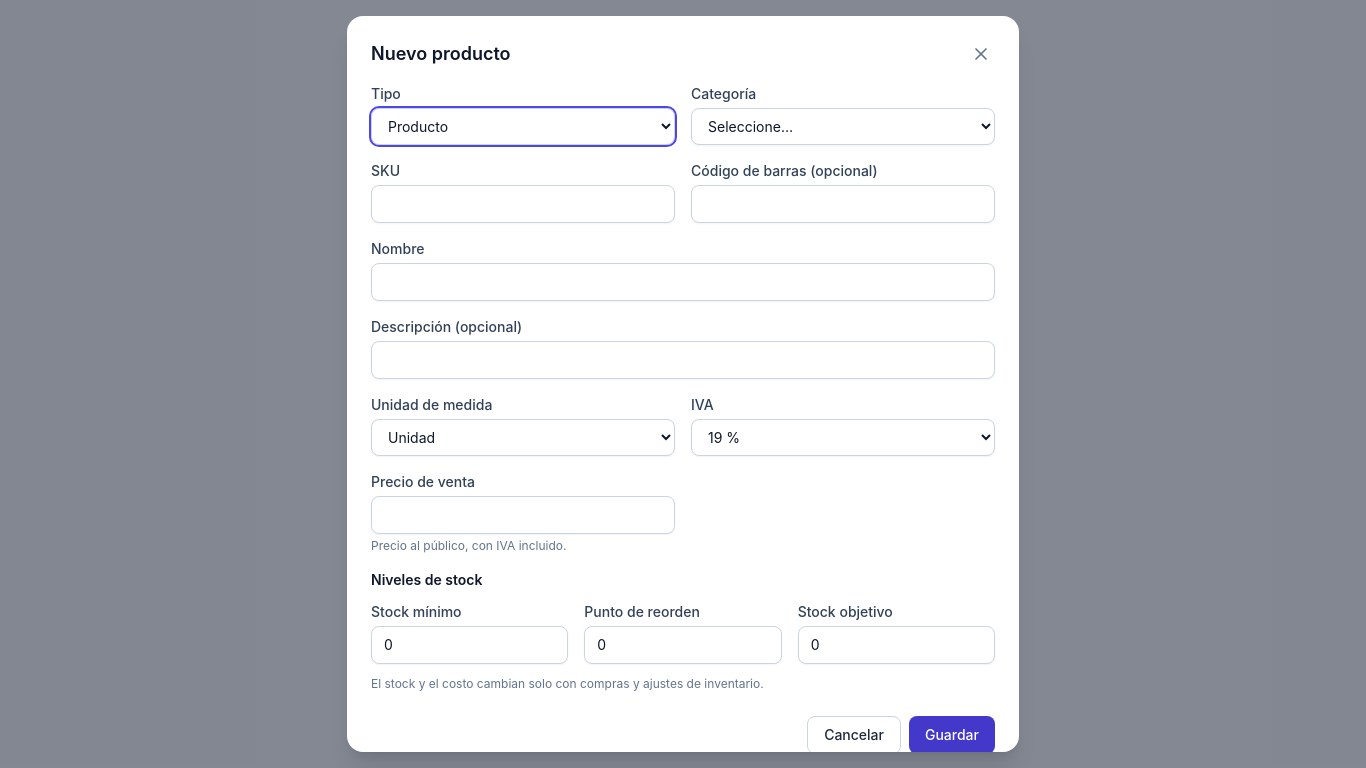
it: ProductFormModal › validates the order of stock levels
Select "Bebidas" in the dropdown labelled "Categoría" at (843, 126), box [691,108,995,145]
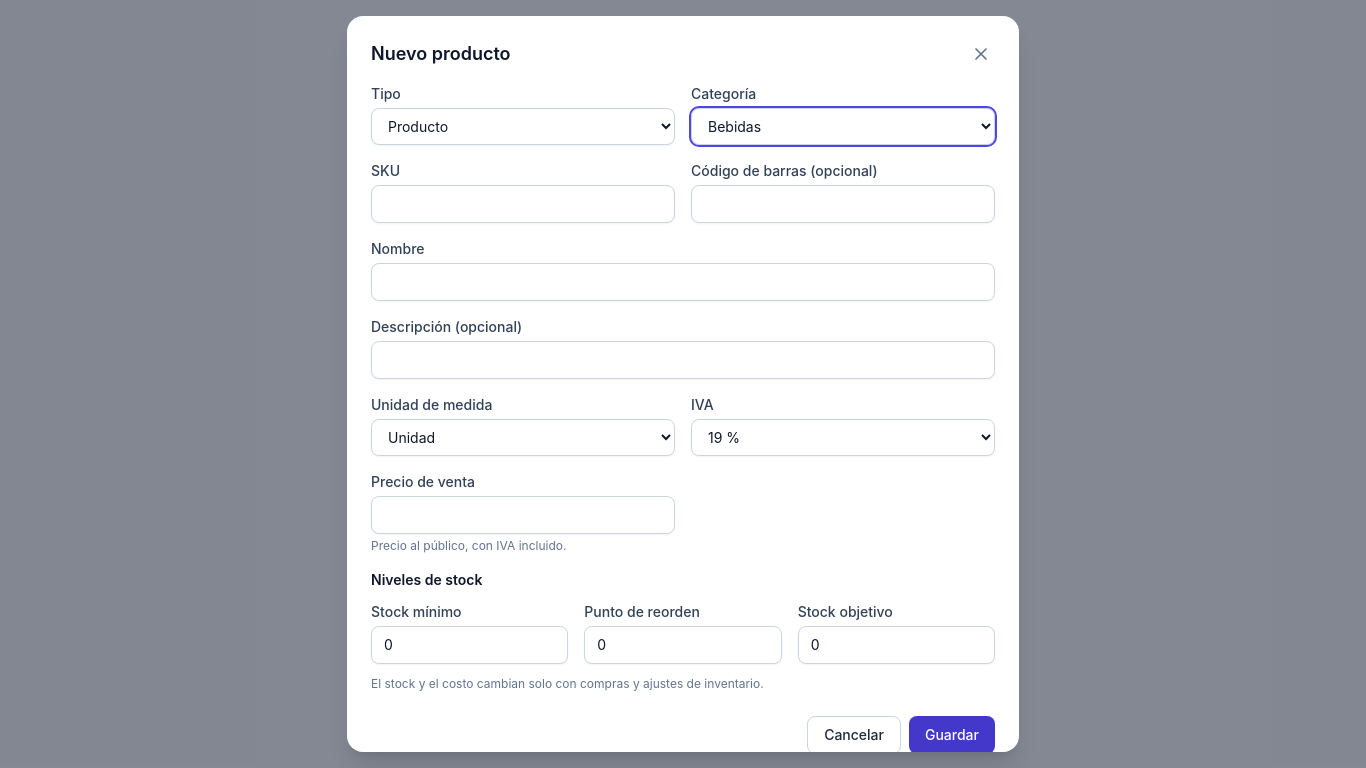
Type "beb-001" into the field labelled "SKU" at (523, 204), box [371,185,675,223]
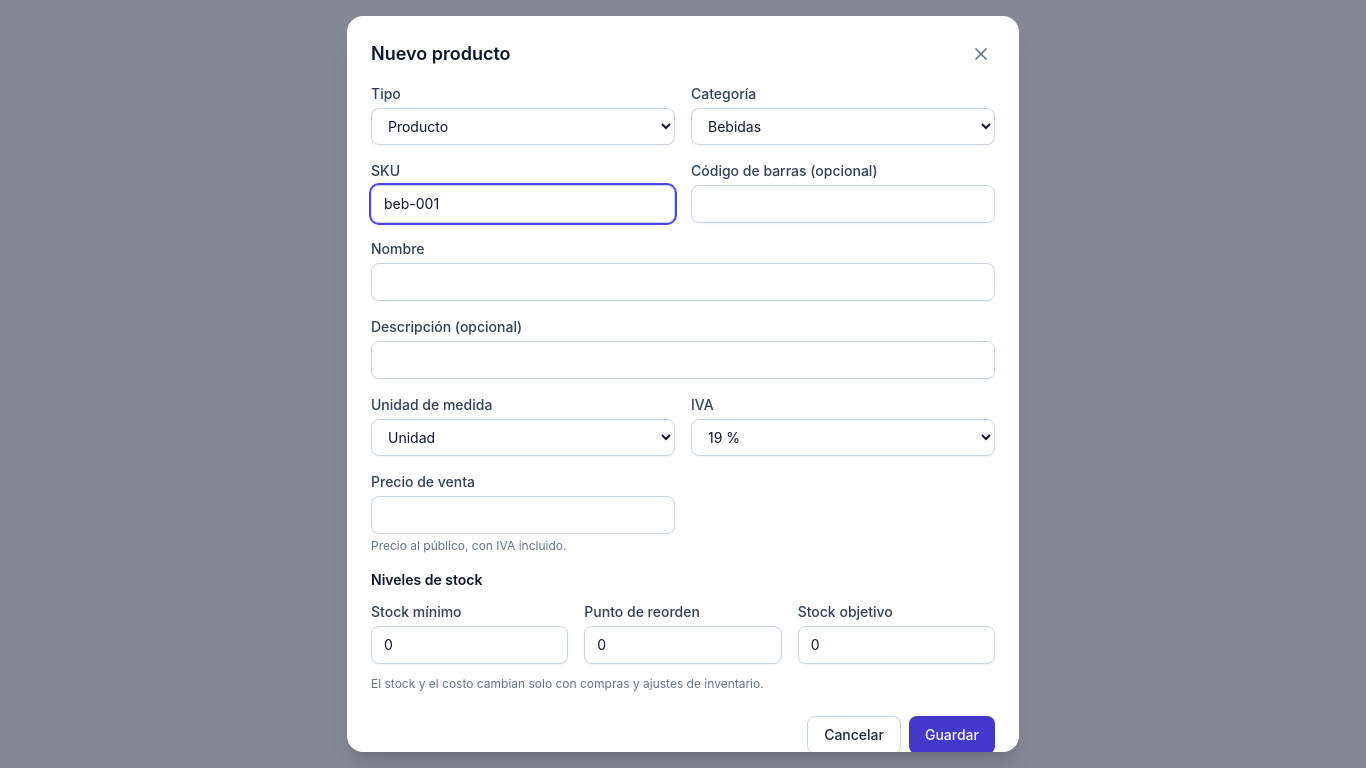
Type "Gaseosa cola" into the field labelled "Nombre" at (683, 282), box [371,263,995,301]
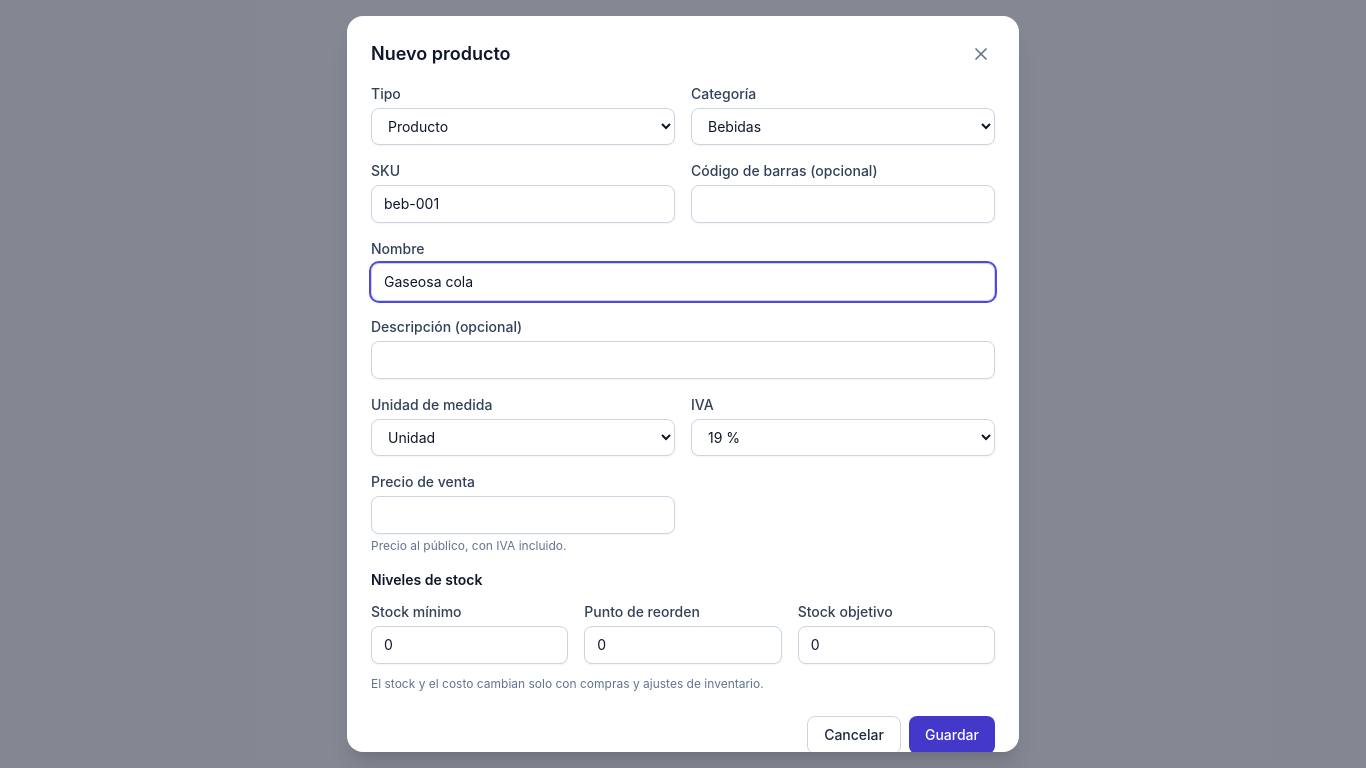
Type "2500" into the field labelled "Precio de venta" at (523, 515), box [371,496,675,534]
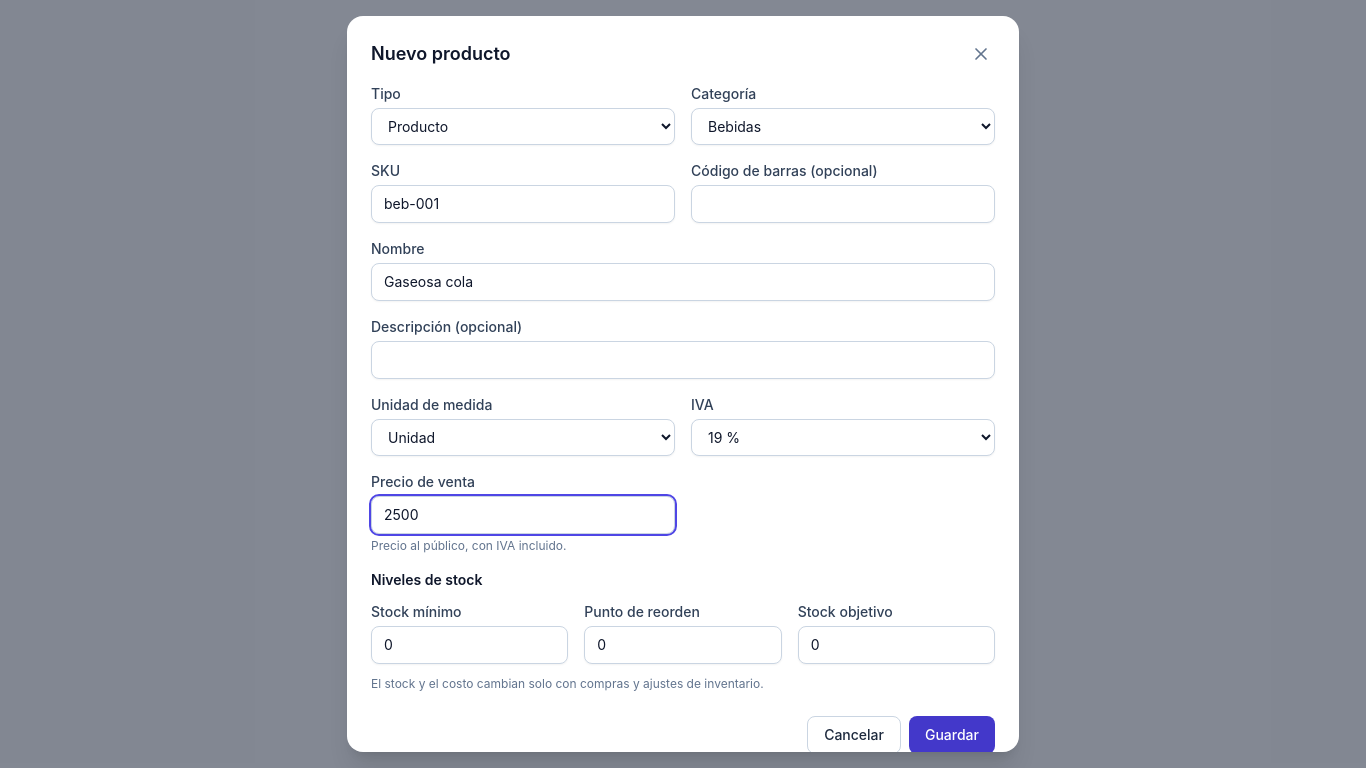
Replace the text in the field labelled "Stock mínimo" with "10" at (470, 645), box [371,626,568,664]
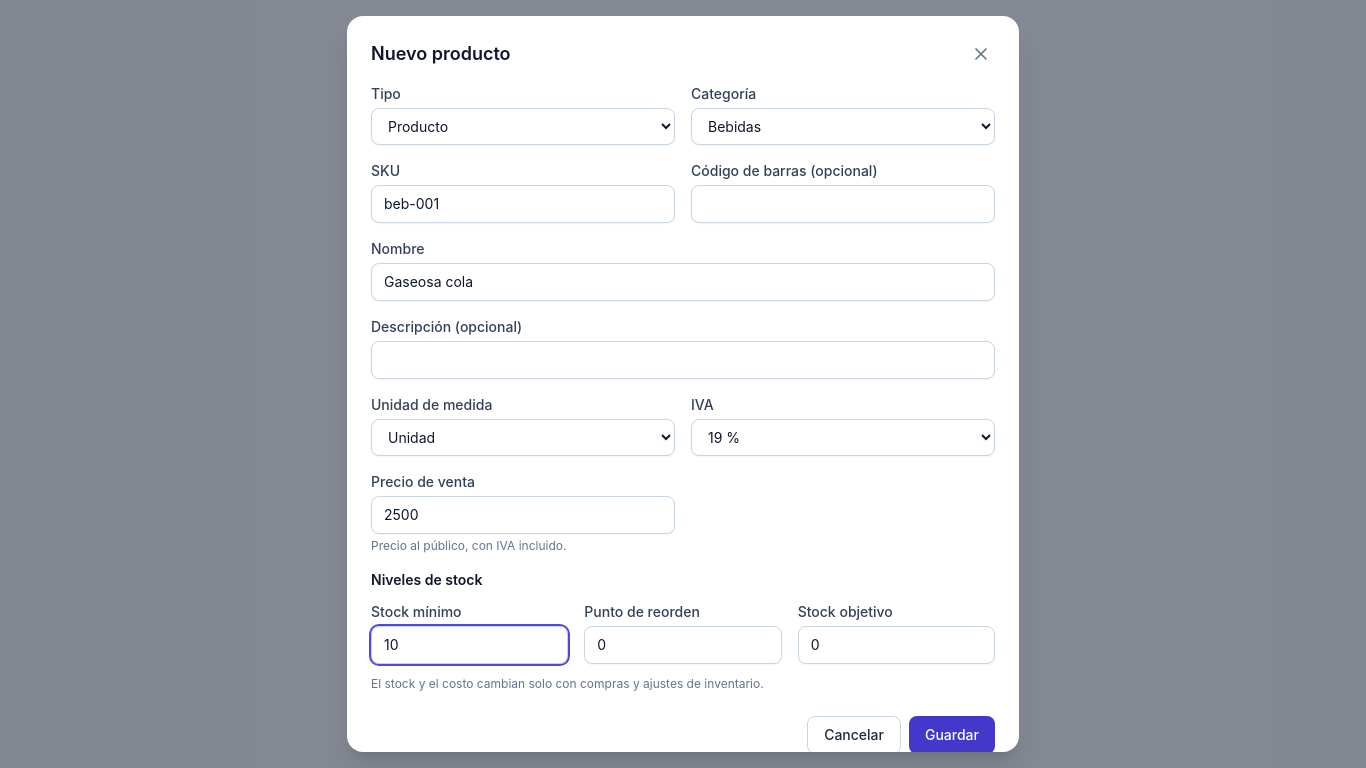
Click the button "Guardar" at (952, 735), box [909,716,995,754]
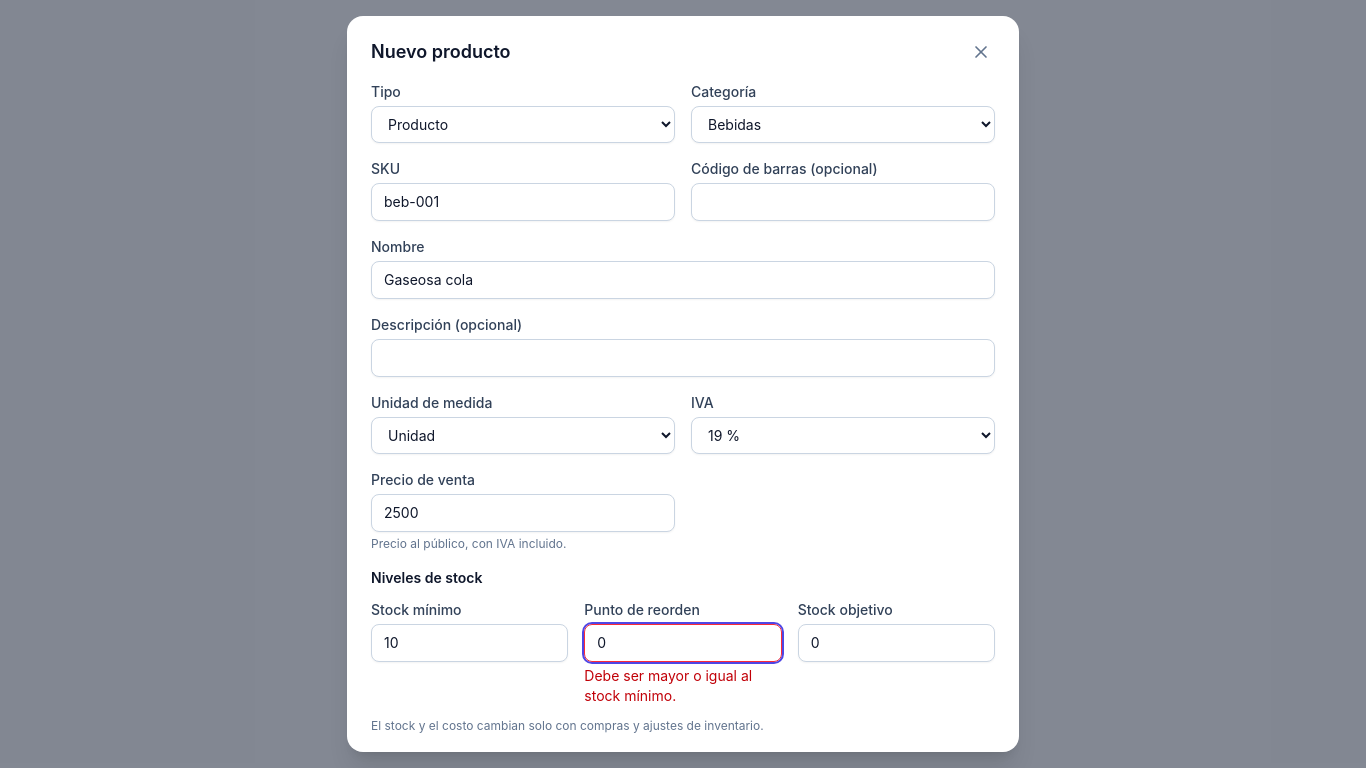
Expected: the text "Debe ser mayor o igual al stock mínimo." is shown, [584,666,782,706]
